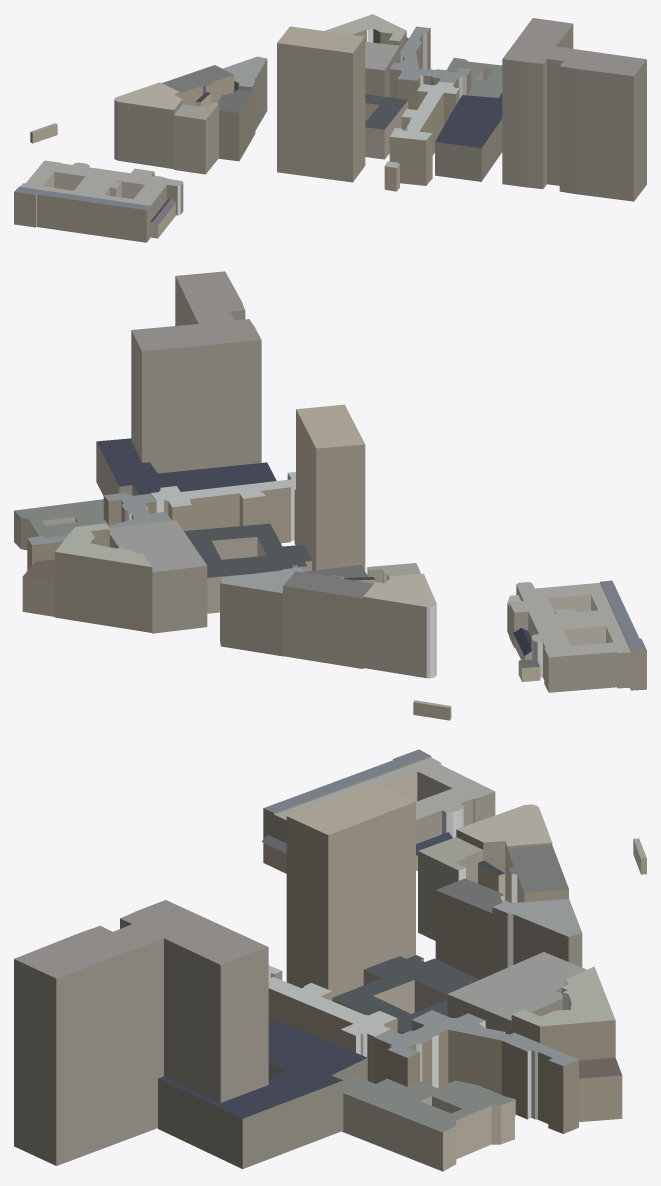
3 renders of one model, top to bottom at view 1: azimuth 30°, elevation 25°; view 2: azimuth 150°, elevation 25°; view 3: azimuth 270°, elevation 25°, orthographic. The views are drawn at different scales.
Parts seen in each view (by area): view 1: tuile; view 2: tuile; view 3: tuile.
Boxes of the visible parts, x1=… form: tuile: x1=14, y1=14, x2=646, y2=242; tuile: x1=14, y1=271, x2=646, y2=720; tuile: x1=14, y1=749, x2=646, y2=1171.
Bounding box in the file's own units: 250 × 60.85 × 177.
